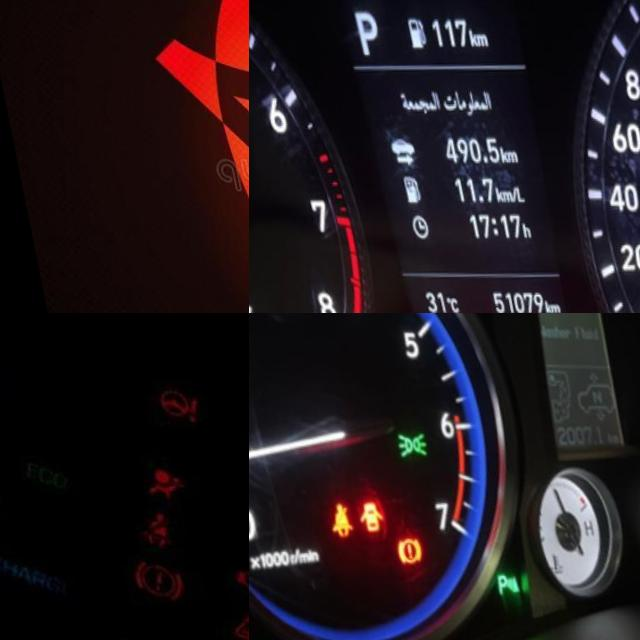Doors: (334, 498, 369, 541)
Seat Belt: (132, 0, 249, 313)
